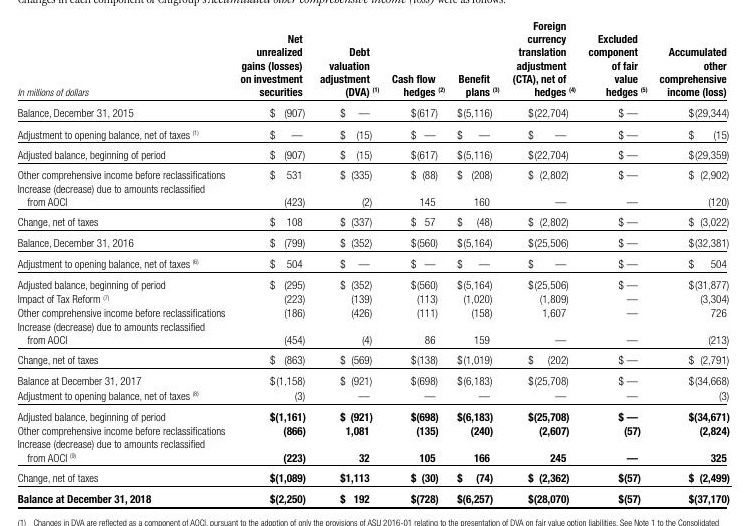table: (0, 0, 751, 526)
